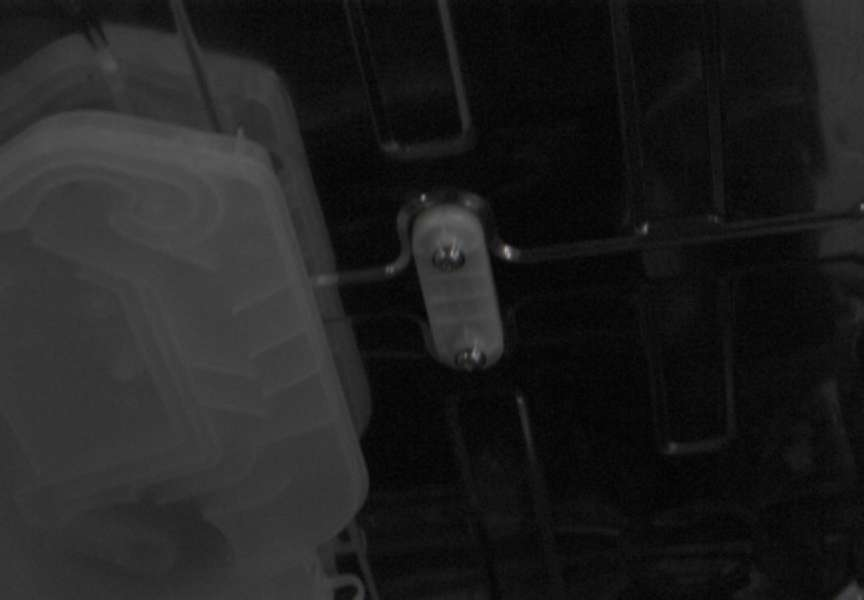screw: (432, 244, 466, 272), (454, 346, 486, 372)
